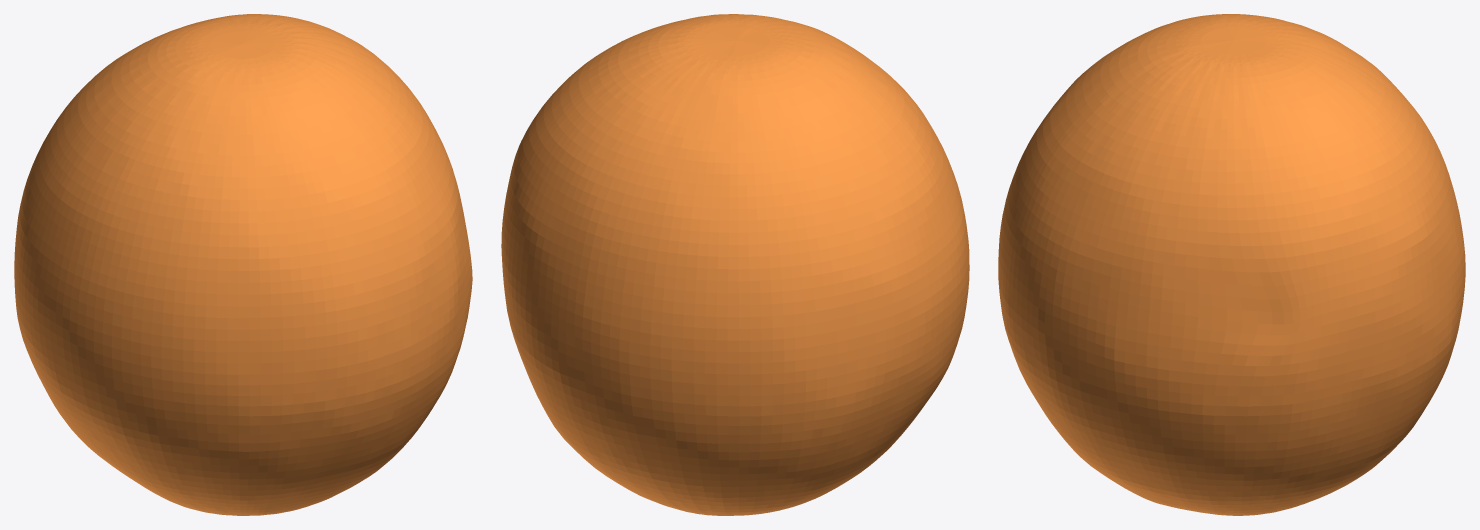
File: Orange2.fbx
3 renders of one model, left to right at view 1: azimuth 30°, elevation 25°; view 2: azimuth 150°, elevation 25°; view 3: azimuth 270°, elevation 25°, orthographic.
Visible parts, largest first — view 1: Sphere; view 2: Sphere; view 3: Sphere.
Boxes of the visible parts, bbox=[...] form: Sphere: bbox=[14, 14, 472, 515]; Sphere: bbox=[501, 14, 969, 515]; Sphere: bbox=[998, 14, 1465, 515].
Size of the model in its own units: 171 by 183 by 173.
